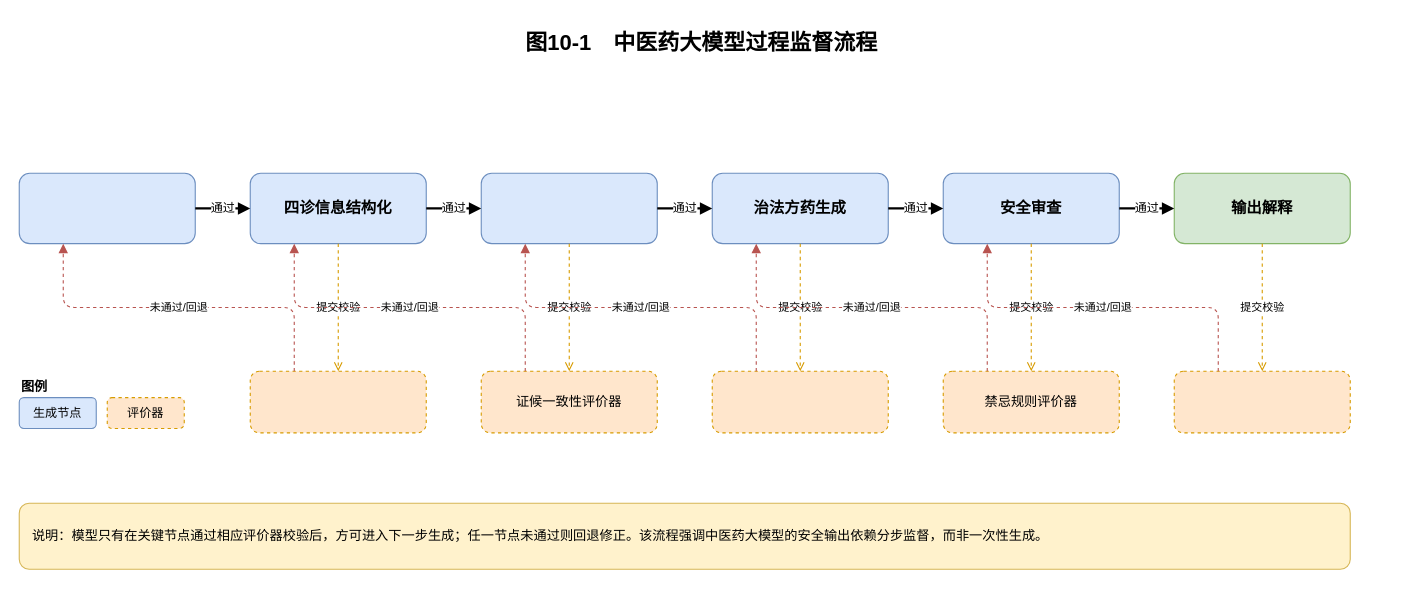
The diagram is 1403 pixels wide and 589 high, and some of its shapes have lost their labels. Each missing label, with the centre of its shape:
"患者信息输入" goes at pixel 106 208.
"方药配伍评价器" goes at pixel 799 401.
"术语规范评价器" goes at pixel 337 401.
"证据来源评价器" goes at pixel 1261 401.
"辨证路径生成" goes at pixel 568 208.
